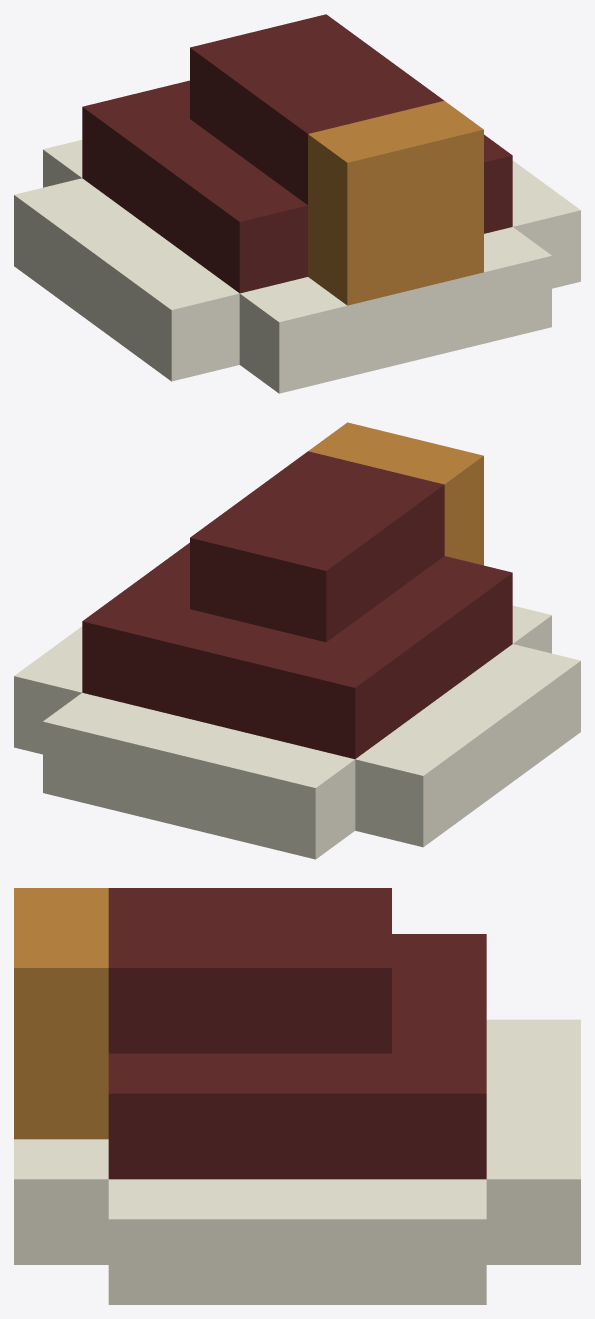
The model's file is character-257-helm_lgt_3c_du_color.obj.
3 views of the same model, one above another, from view 1: azimuth 30°, elevation 25°; view 2: azimuth 150°, elevation 25°; view 3: azimuth 270°, elevation 25° (orthographic). The views are drawn at different scales.
Visible parts, largest first — view 1: helm_lgt_3c_du_color; view 2: helm_lgt_3c_du_color; view 3: helm_lgt_3c_du_color.
Boxes of the visible parts, x1,y1,x2,y2 form: helm_lgt_3c_du_color: (14, 14, 580, 393); helm_lgt_3c_du_color: (14, 422, 580, 859); helm_lgt_3c_du_color: (14, 888, 580, 1304).
Bounding box in the file's own units: 0.6 × 0.3 × 0.6.
1 material, 1 textured.
